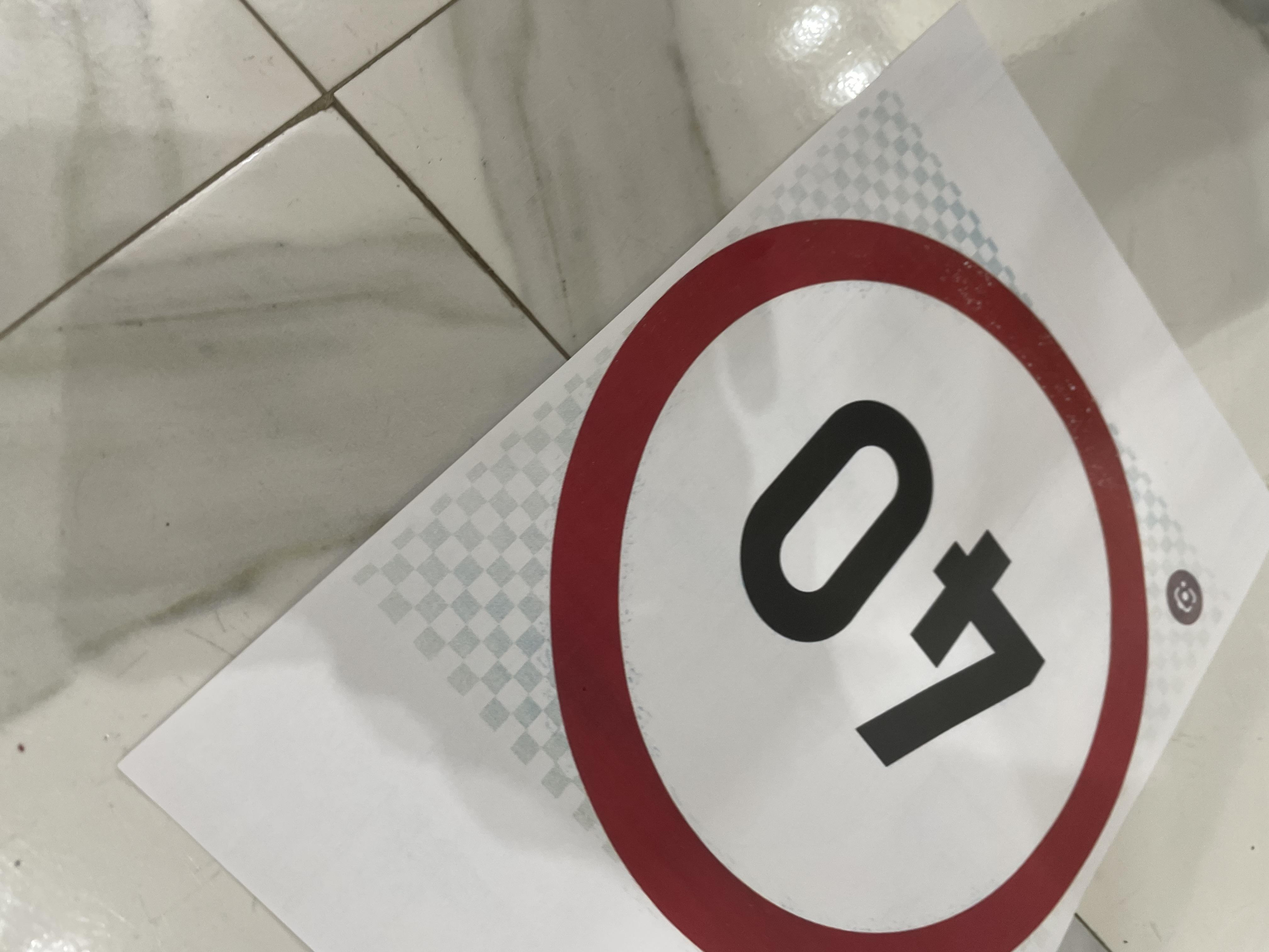40-Speed: (290, 81, 1269, 536)
